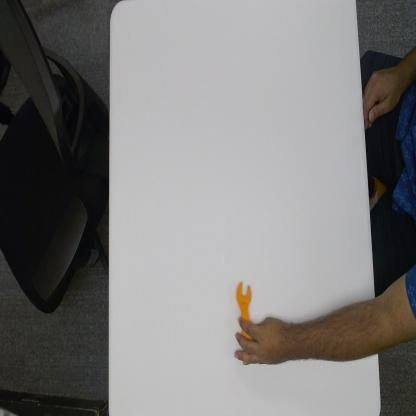Arm: (290, 300, 379, 364)
Hand: (234, 314, 288, 370)
Screwdriver: (236, 280, 254, 342)
